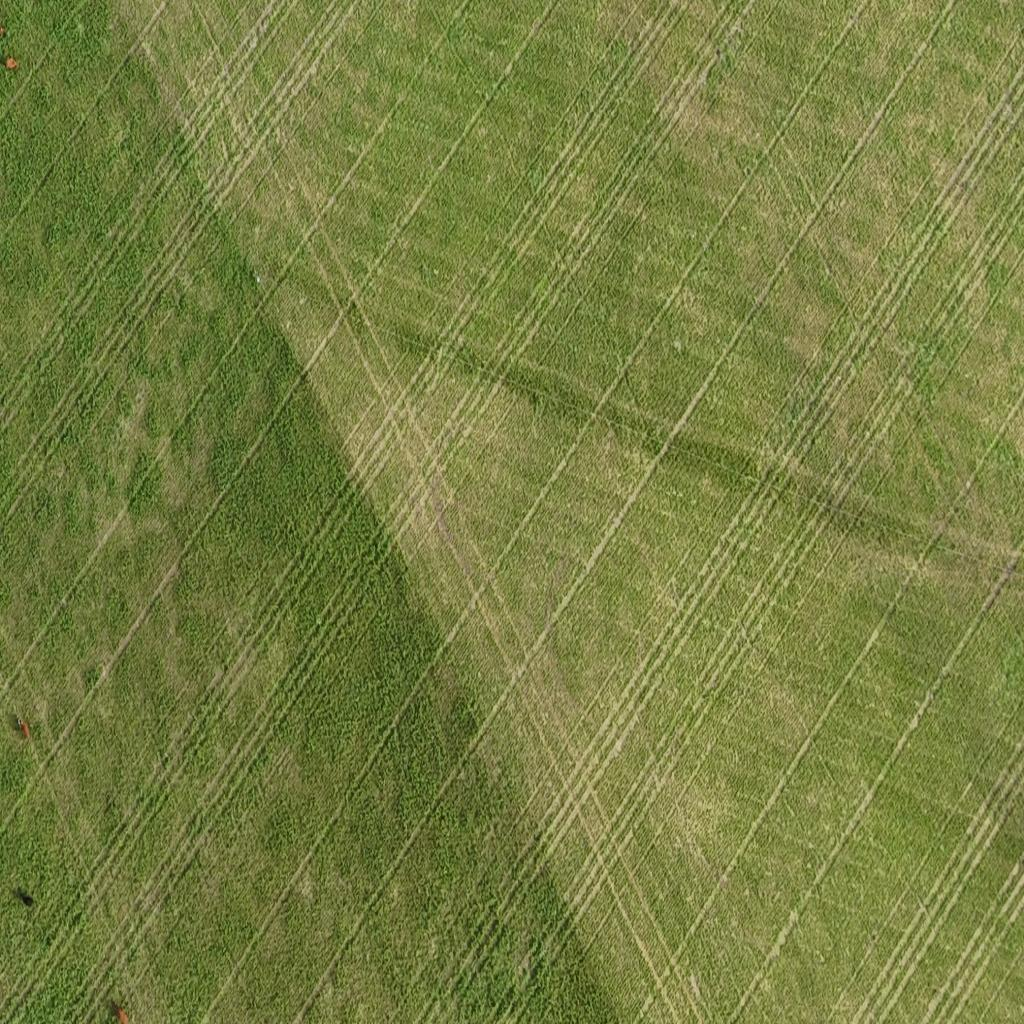cow: (14, 886, 36, 910), (16, 715, 33, 745), (111, 1001, 129, 1024), (4, 54, 18, 73), (0, 25, 7, 38)
